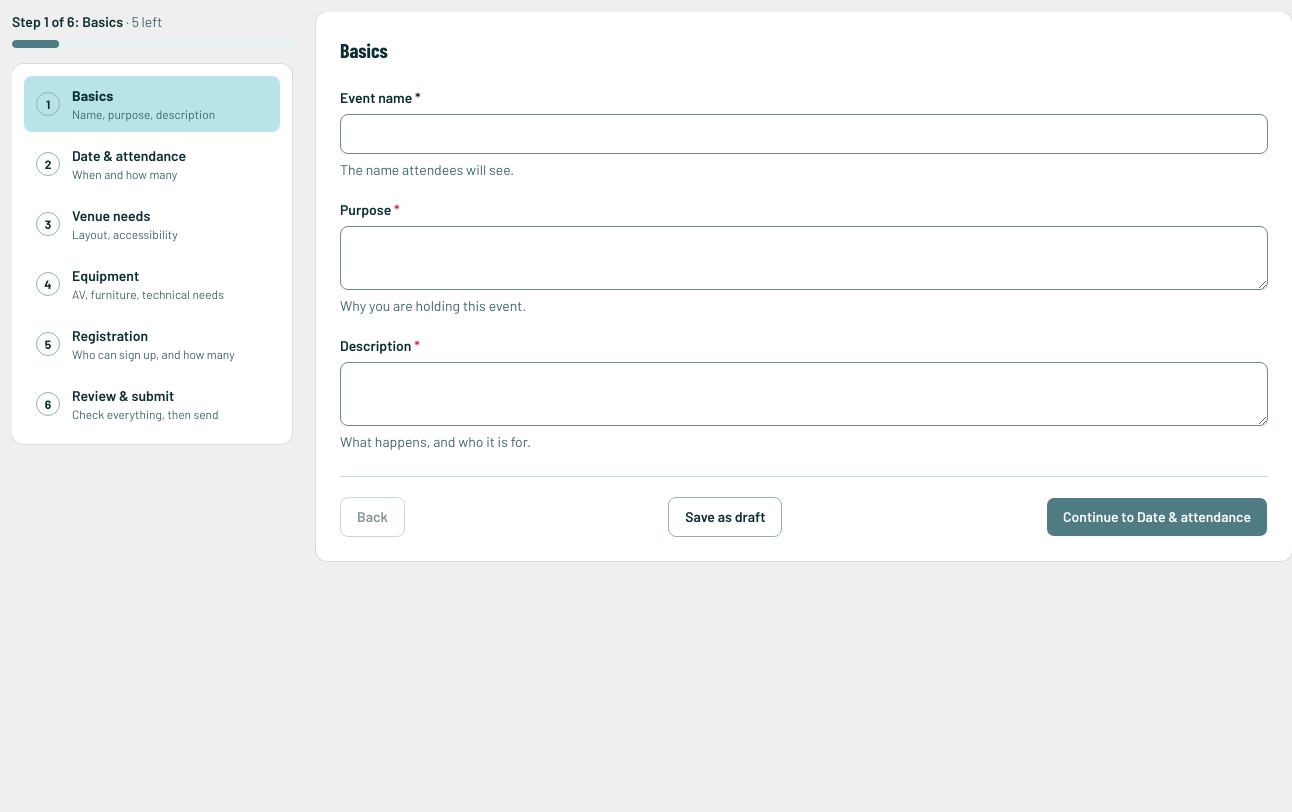
SCRUM-123/AC2 required field validation › keeps the helper text on a field with no error
Step 1. Type "Tech Summit" into the field labelled "Event name *" → coordinates (804, 134), box [340,114,1268,154]
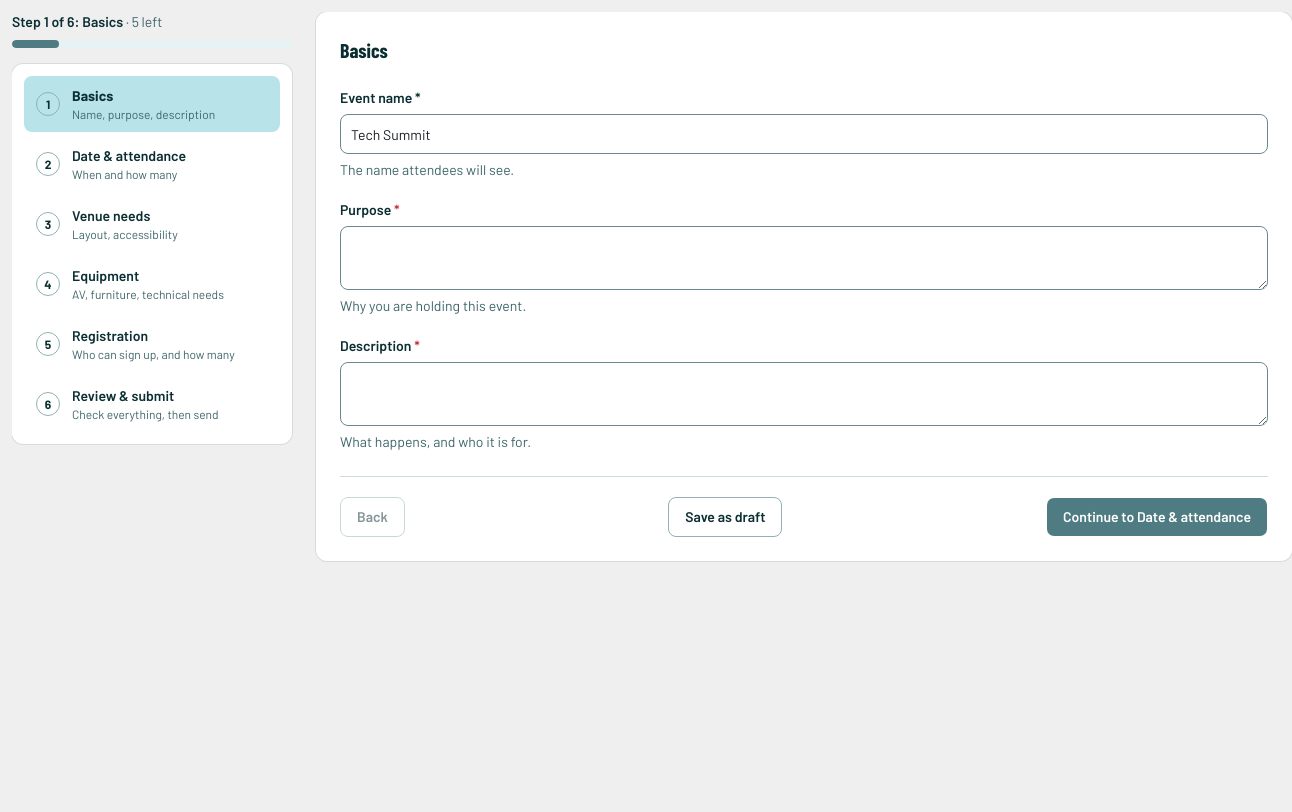
Step 2. Click the button "Continue to Date & attendance" → coordinates (1157, 517), box [1046,497,1268,537]
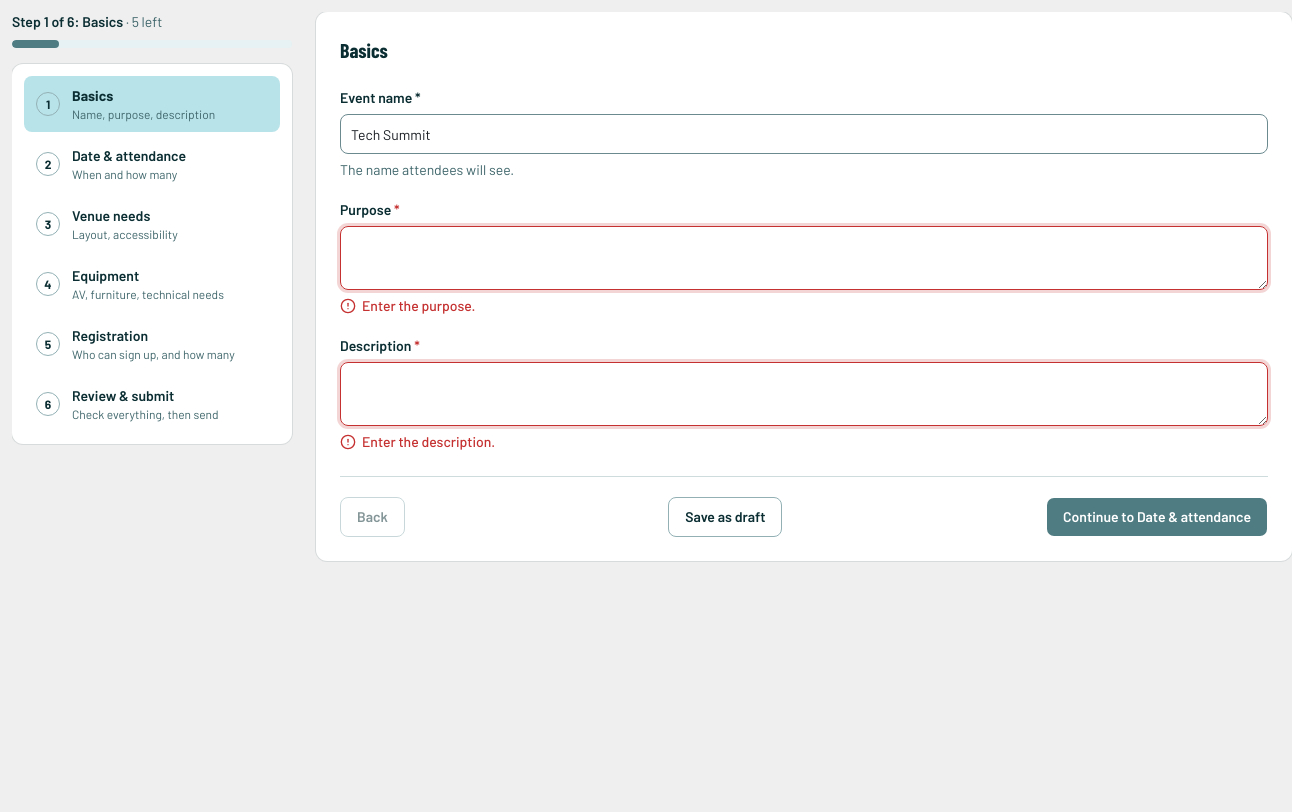
Expected: the text "The name attendees will see." is shown, [340,161,514,178]
Now the text "Enter the purpose." is shown, box [340,297,475,314]
